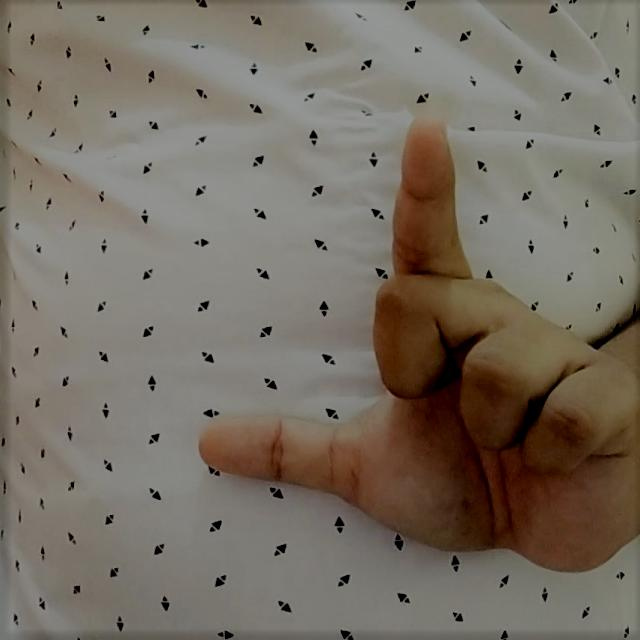L: (187, 108, 639, 584)
